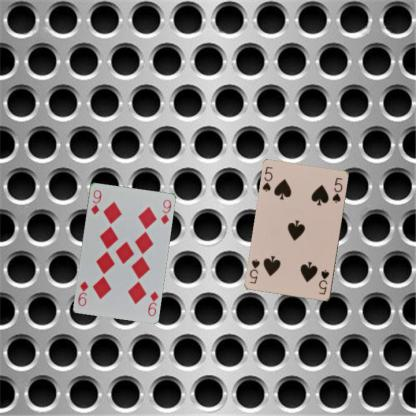5s: (316, 267, 331, 296), (260, 164, 274, 193)
9d: (88, 186, 102, 216), (145, 288, 159, 318)
